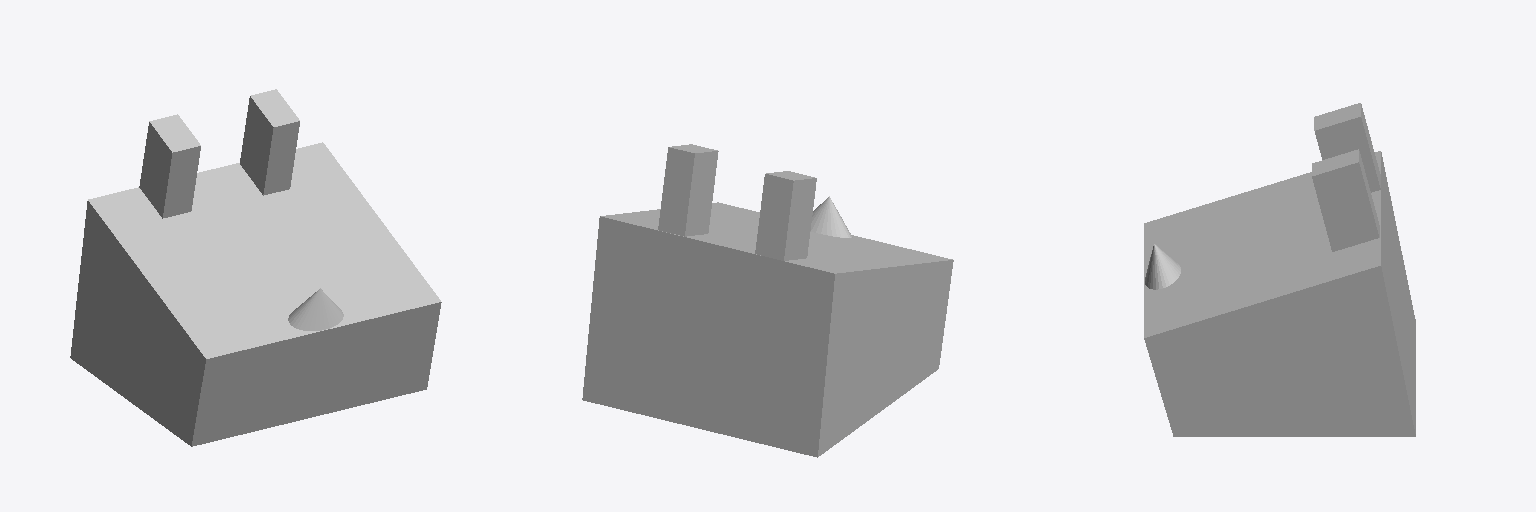
File: player.obj
3 renders of one model, left to right at view 1: azimuth 30°, elevation 25°; view 2: azimuth 150°, elevation 25°; view 3: azimuth 270°, elevation 25°, orthographic.
Parts seen in each view (by area): view 1: Cube; view 2: Cube; view 3: Cube.
Boxes of the visible parts, x1=… form: Cube: x1=70, y1=89, x2=441, y2=446; Cube: x1=582, y1=144, x2=953, y2=457; Cube: x1=1144, y1=103, x2=1415, y2=436.
Bounding box in the file's own units: 2 × 2 × 2.